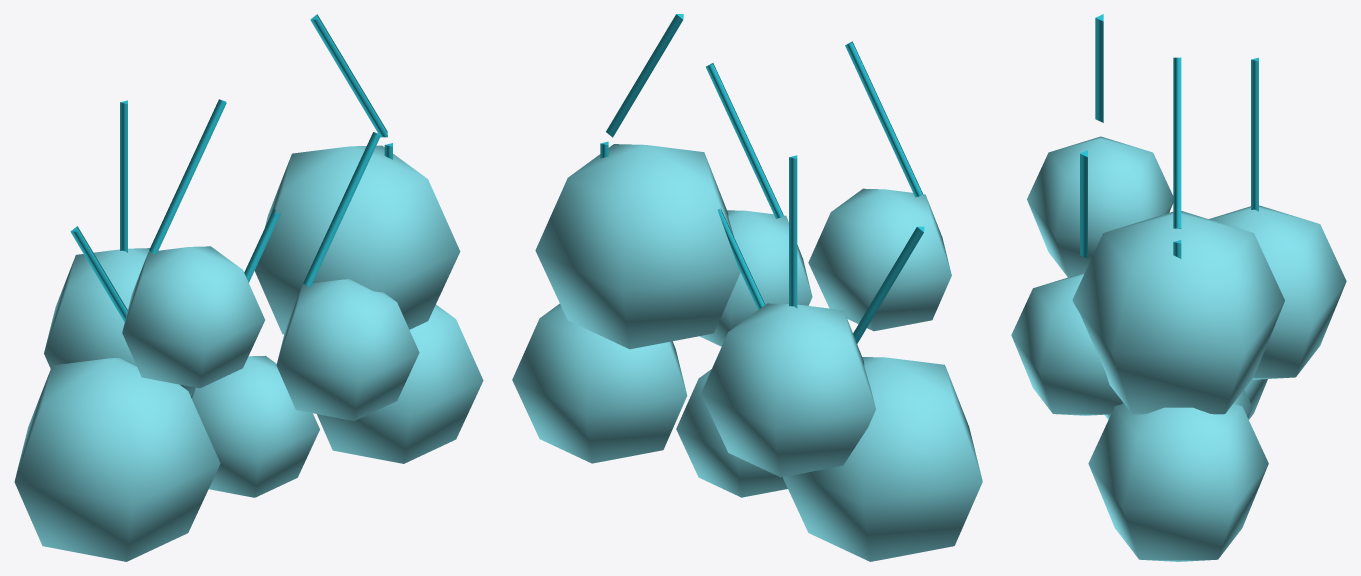
File: bakteri.glb
The picture shows the model from 3 angles, left to right: view 1: azimuth 30°, elevation 25°; view 2: azimuth 150°, elevation 25°; view 3: azimuth 270°, elevation 25°; orthographic projection.
Bounding box in the file's own units: 0.6627 × 0.7074 × 0.4311.
